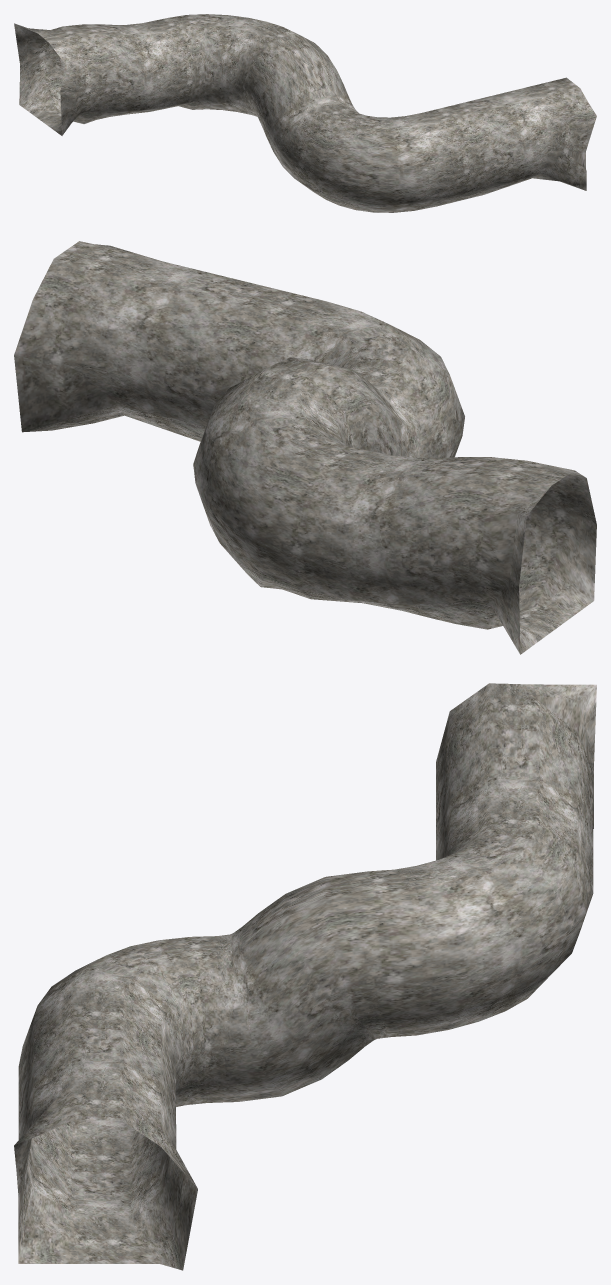
File: DWARF_PALACE_WATERROOM_GEARROOM_CAVE.obj
The picture shows the model from 3 angles, top to bottom: view 1: azimuth 30°, elevation 25°; view 2: azimuth 150°, elevation 25°; view 3: azimuth 270°, elevation 25°; orthographic projection. The views are drawn at different scales.
Parts seen in each view (by area): view 1: m_gearroom_cave; view 2: m_gearroom_cave; view 3: m_gearroom_cave.
Boxes of the visible parts, x1,y1,x2,y2 form: m_gearroom_cave: [14, 14, 596, 212]; m_gearroom_cave: [14, 241, 596, 654]; m_gearroom_cave: [14, 683, 596, 1270].
Bounding box in the file's own units: 5181 × 1732 × 3697.
